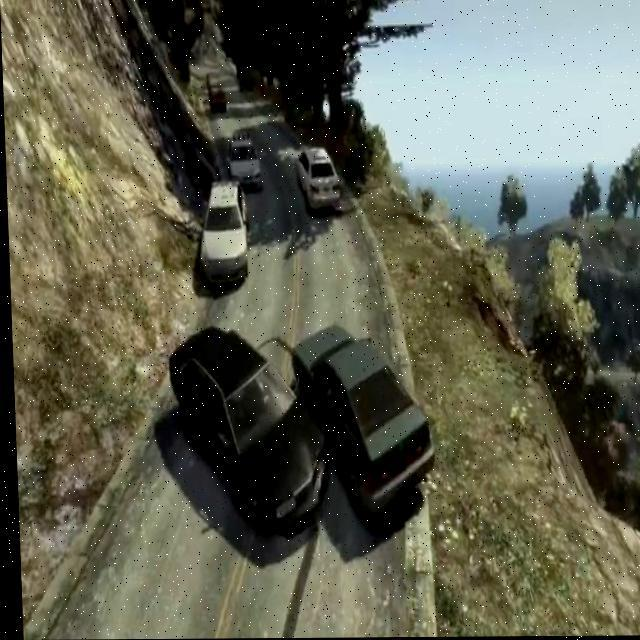multiple_accident: (181, 306, 469, 507)
normal: (209, 111, 357, 277)
